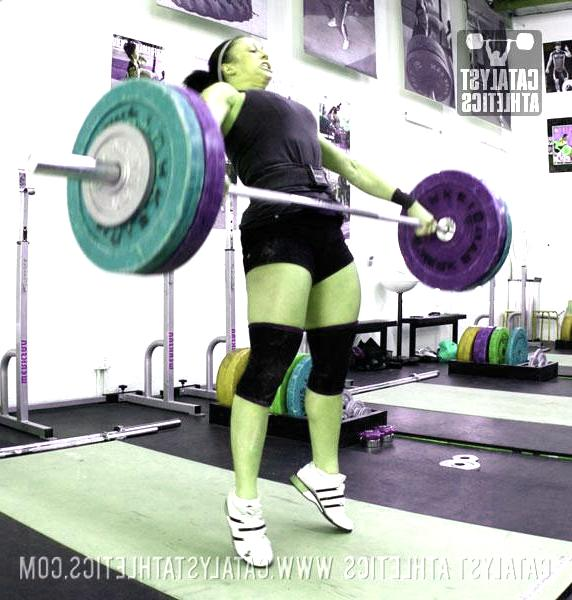Barbell: (23, 148, 41, 175)
